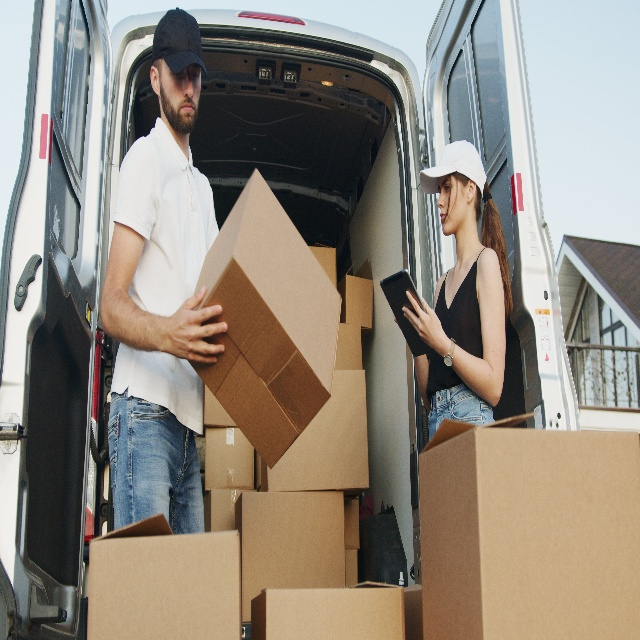Sin_guantes: (170, 284, 228, 368), (400, 288, 445, 354)
